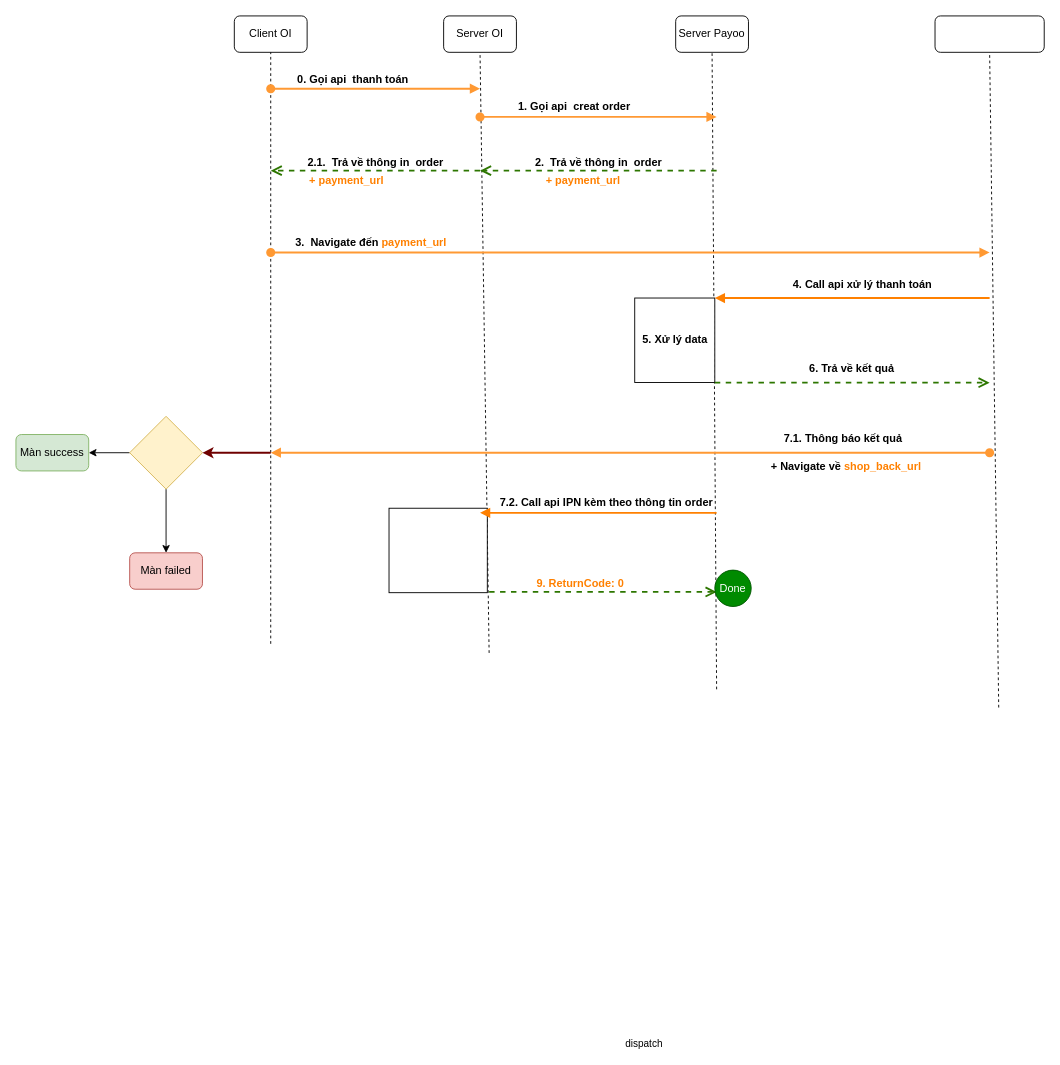
Image size: 1060x1065. Some labels were removed from this diagram. The centre of each missing label's shape, as x and y in pixels:
8. Verify info và Update vào database: pixel 437 550
status: pixel 165 452
Web Payment Payoo: pixel 989 33
